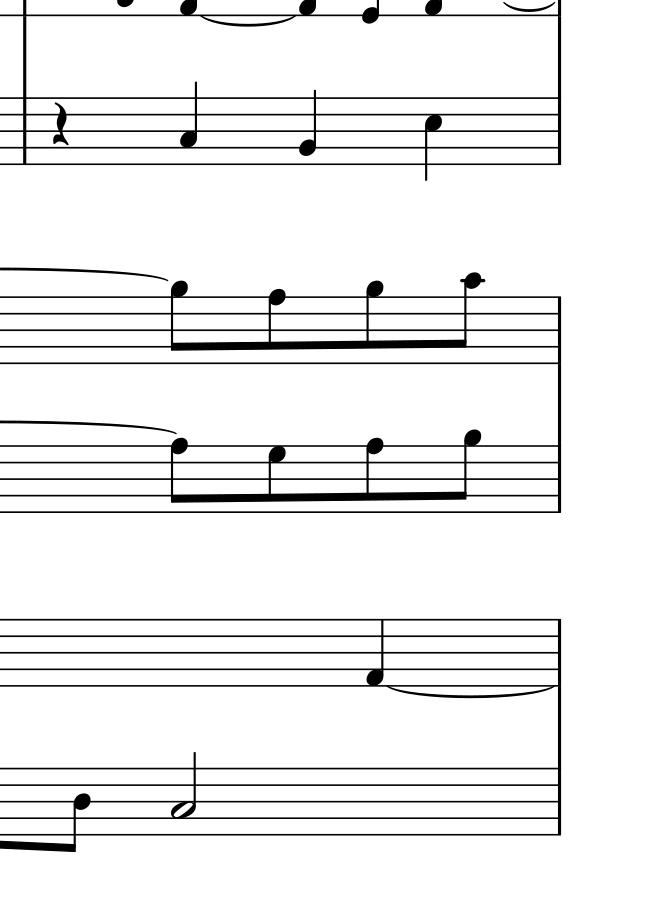2_2: (169, 752, 198, 834)
4_1: (363, 618, 386, 688)
4_2: (297, 88, 319, 167)
4_3: (178, 81, 200, 166)
4_5: (423, 95, 444, 185)
8_10: (451, 271, 482, 365)
8_4: (61, 767, 91, 855)
8_7: (265, 445, 288, 515)
8_8: (168, 436, 190, 515), (266, 287, 287, 368), (364, 436, 385, 517)
8_9: (450, 429, 482, 514), (364, 279, 385, 367), (169, 279, 190, 366)
Rests4: (48, 101, 72, 149)
Single_barline: (550, 98, 567, 163), (550, 298, 567, 363), (550, 446, 567, 511), (16, 96, 32, 163), (552, 617, 567, 673)
Slur: (387, 685, 558, 699)
